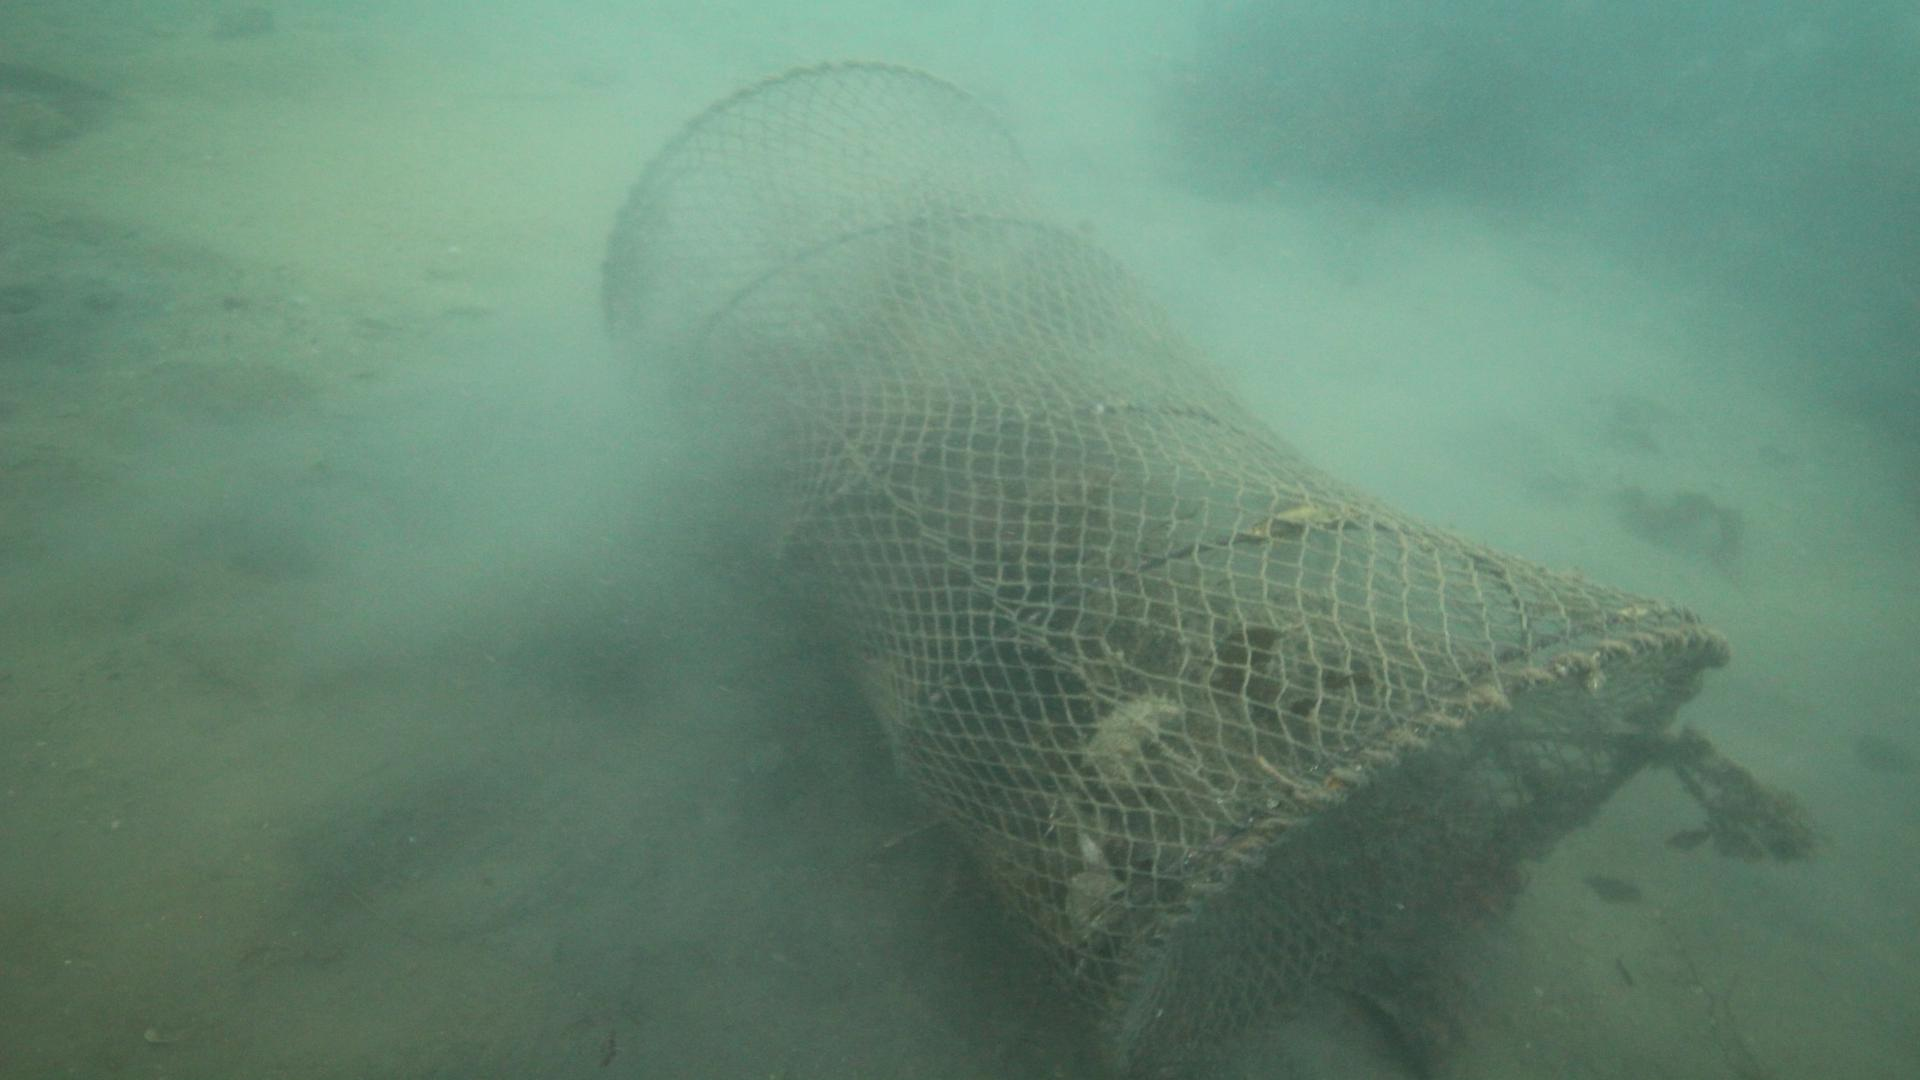spring fish trap: (600, 55, 1734, 1080)
